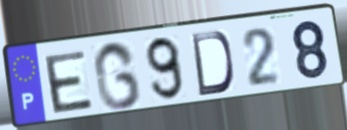2: (241, 26, 282, 90)
8: (290, 18, 331, 83)
9: (143, 35, 186, 104)
D: (189, 29, 236, 99)
E: (41, 48, 96, 116)
G: (91, 39, 144, 112)
